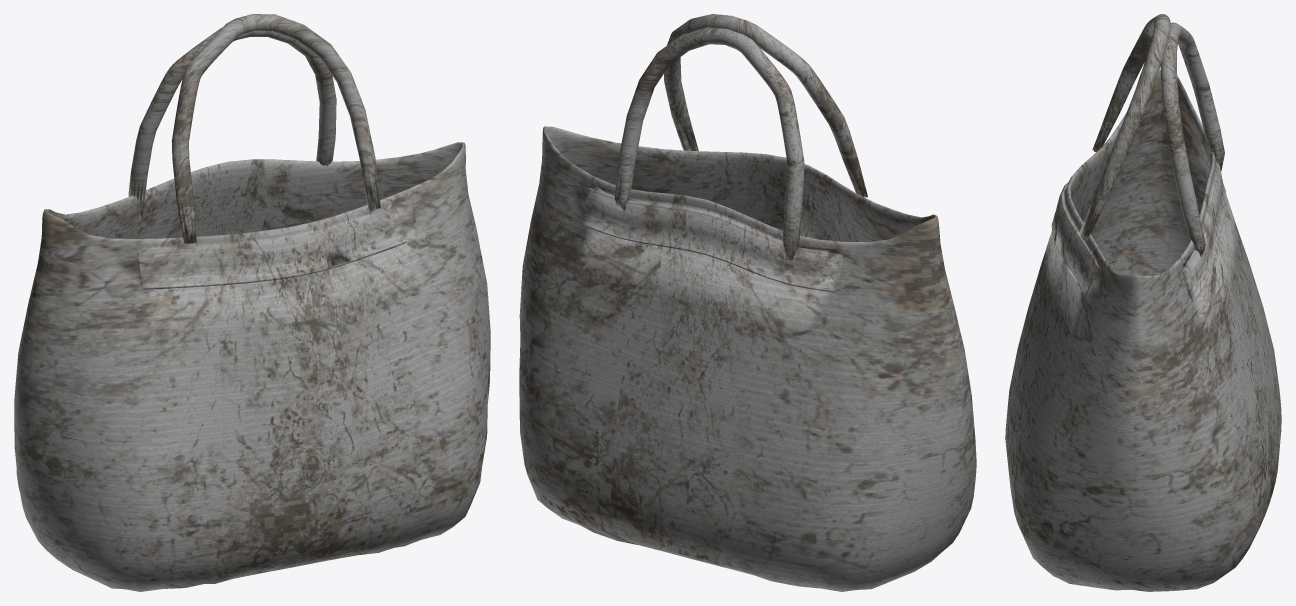
The model's file is beach_bag.fbx.
The picture shows the model from 3 angles, left to right: view 1: azimuth 30°, elevation 25°; view 2: azimuth 150°, elevation 25°; view 3: azimuth 270°, elevation 25°; orthographic projection. The views are drawn at different scales.
Parts seen in each view (by area): view 1: polySurface116; view 2: polySurface116; view 3: polySurface116.
Part boxes in pixels (<box>): polySurface116: <box>14,14,490,591</box>; polySurface116: <box>519,14,976,591</box>; polySurface116: <box>1005,14,1281,591</box>.
Size of the model in its own units: 1.35 by 1.48 by 0.7443.
